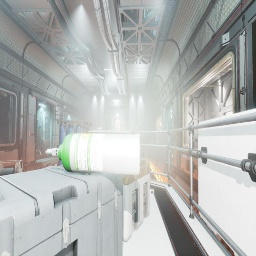0: (46, 134, 140, 175)
EmergencyPhone ,: (124, 127, 125, 131), (153, 142, 155, 144), (154, 143, 155, 144), (124, 129, 125, 129)
FireAlarm ,: (110, 128, 111, 130)
NitrogenTank ,: (56, 164, 59, 166)
SafetySwitchPanel ,: (172, 117, 176, 133), (151, 140, 153, 148)
